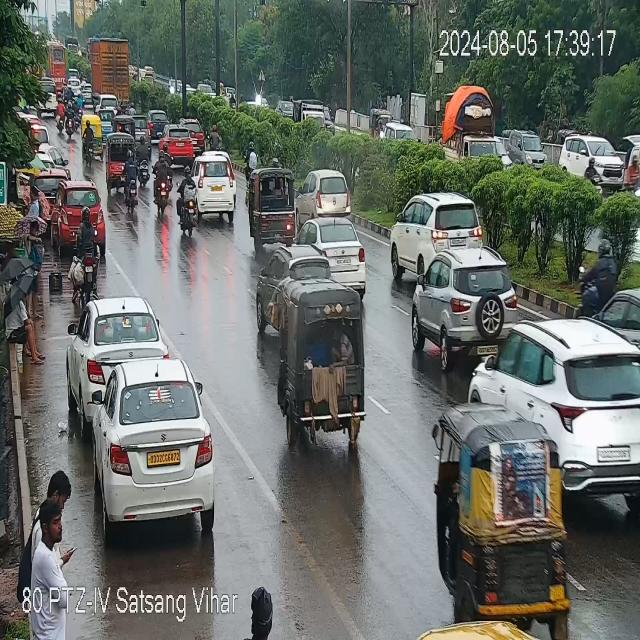2-wheelers: (73, 201, 103, 308), (573, 247, 620, 314), (176, 179, 199, 239), (152, 156, 172, 214), (122, 154, 143, 206), (136, 140, 150, 188), (83, 122, 94, 174), (246, 138, 257, 184), (55, 98, 67, 128), (66, 100, 74, 142)
auto: (430, 398, 576, 634), (266, 281, 370, 454), (252, 171, 298, 244), (105, 134, 132, 184), (82, 110, 104, 162), (116, 116, 137, 138)
car: (460, 318, 639, 493), (93, 360, 217, 530), (404, 243, 518, 364), (71, 295, 162, 404), (388, 191, 487, 274), (289, 220, 367, 292), (48, 178, 108, 257), (557, 132, 628, 192), (585, 281, 636, 362), (293, 170, 353, 232), (190, 155, 238, 223), (506, 126, 549, 172), (168, 129, 195, 163), (148, 104, 170, 142), (183, 122, 206, 150)
pedestrian: (21, 470, 78, 587), (4, 282, 48, 365), (20, 225, 48, 322)
truck: (86, 32, 133, 104)
